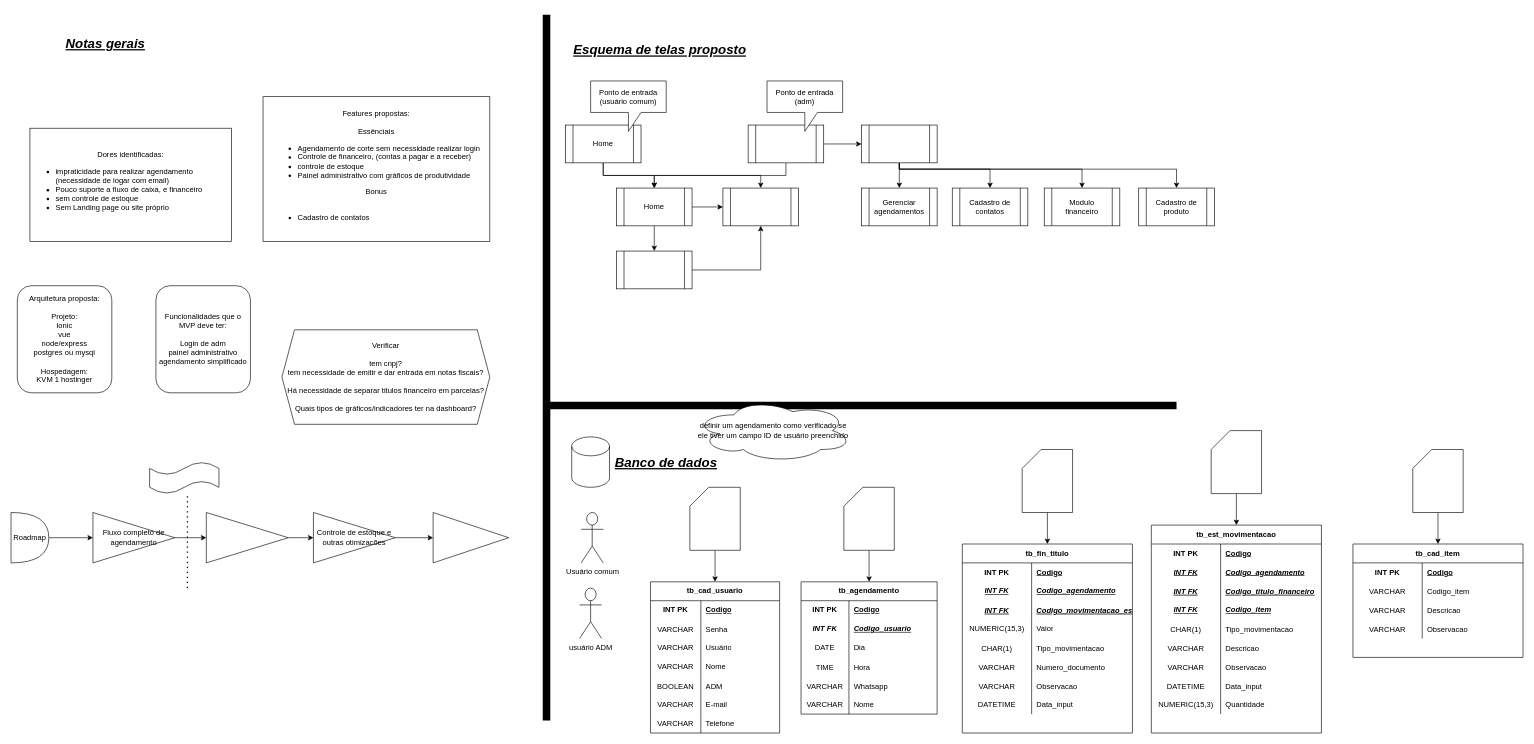
This 1534x744 diagram has some shape labels left out. Here are the shapes that lost their labels. From the top down, the centre of each, then its label:
At [785,143]: "Login".
At [899,143]: "Painel Administrativo/ Dashboard".
At [760,206]: "Agendamento".
At [654,269]: "Lista de servicos e valores".
At [184,477]: "Fim do MVP".
At [1047,481]: "Tabela financeiro".
At [1236,462]: "Tabela de estoque".
At [1437,481]: "Tabela de produto".
At [247,537]: "Módulo financeiro".
At [470,537]: "Landing page elaborada + captacao de clientes via Home".
At [714,518]: "Tabela usuário".
At [868,518]: "Tabela agendamento".
